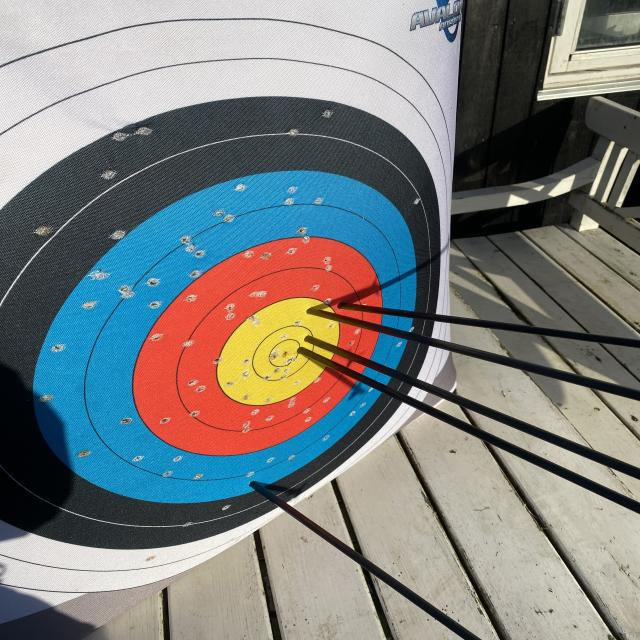Arrow_Blue: (235, 471, 274, 496)
Arrow_Red: (330, 292, 363, 318)
Arrow_Yellow: (280, 341, 318, 369), (300, 300, 325, 323), (298, 330, 324, 349)
